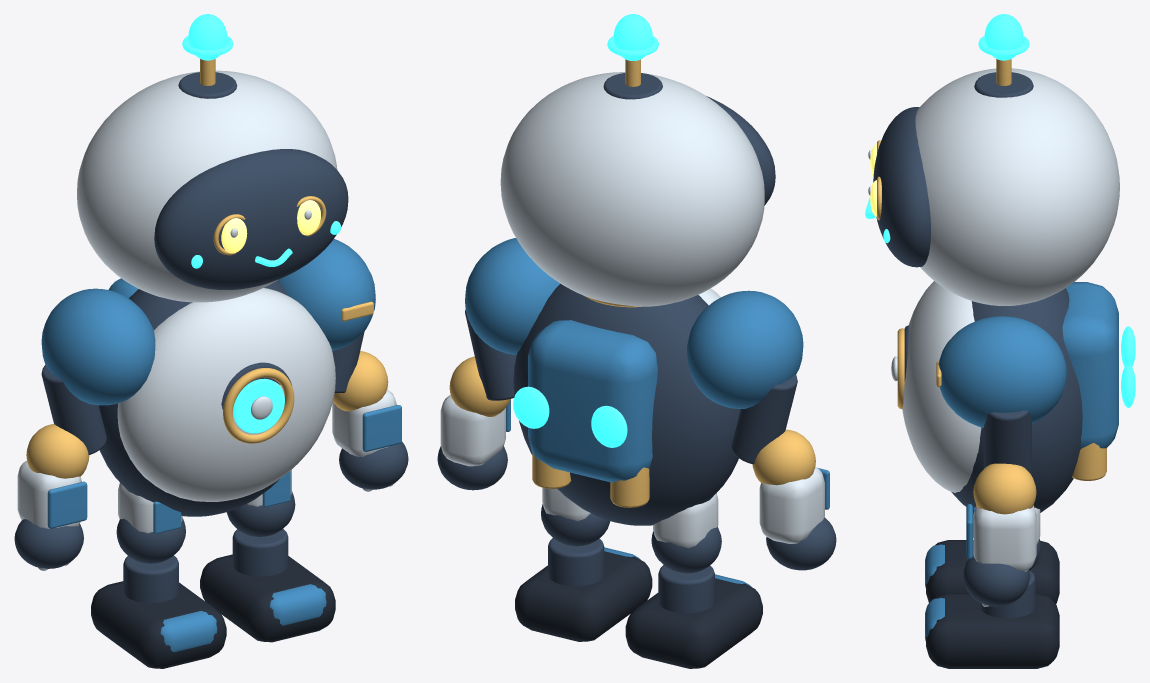
File: cosmo_3d.glb
3 views of the same model, side by side, from view 1: azimuth 30°, elevation 25°; view 2: azimuth 150°, elevation 25°; view 3: azimuth 270°, elevation 25° (orthographic).
Visible parts, largest first — view 1: COSMO | pearl-white chest cuirass, COSMO | pearl ceramic head, COSMO | dark blue glass faceplate, COSMO L | shoulder pauldron, COSMO L | magnetic boot, COSMO R | magnetic boot, COSMO R | shoulder pauldron, COSMO | central titanium chassis, COSMO L | upper arm actuator, COSMO L | elbow pivot, COSMO L | magnetic glove, COSMO R | magnetic glove (+21 smaller); view 2: COSMO | pearl ceramic head, COSMO | central titanium chassis, COSMO | cobalt service backpack, COSMO L | shoulder pauldron, COSMO L | magnetic boot, COSMO R | magnetic boot, COSMO R | shoulder pauldron, COSMO L | forearm ceramic gauntlet, COSMO R | forearm ceramic gauntlet, COSMO L | upper arm actuator, COSMO L | elbow pivot, COSMO R | ankle bearing (+16 smaller); view 3: COSMO | pearl ceramic head, COSMO R | shoulder pauldron, COSMO | pearl-white chest cuirass, COSMO R | magnetic boot, COSMO | central titanium chassis, COSMO | cobalt service backpack, COSMO | dark blue glass faceplate, COSMO R | forearm ceramic gauntlet, COSMO L | magnetic boot, COSMO R | elbow pivot, COSMO R | upper arm actuator, COSMO R | magnetic glove (+11 smaller).
Boxes of the visible parts, x1=… form: COSMO | pearl-white chest cuirass: x1=117, y1=288, x2=335, y2=501; COSMO | pearl ceramic head: x1=77, y1=70, x2=337, y2=302; COSMO | dark blue glass faceplate: x1=154, y1=149, x2=348, y2=289; COSMO L | shoulder pauldron: x1=41, y1=288, x2=155, y2=405; COSMO L | magnetic boot: x1=91, y1=581, x2=226, y2=668; COSMO R | magnetic boot: x1=200, y1=554, x2=335, y2=642; COSMO R | shoulder pauldron: x1=278, y1=239, x2=375, y2=350; COSMO | central titanium chassis: x1=99, y1=280, x2=287, y2=516; COSMO L | upper arm actuator: x1=41, y1=365, x2=106, y2=454; COSMO L | elbow pivot: x1=26, y1=424, x2=89, y2=478; COSMO L | magnetic glove: x1=14, y1=519, x2=83, y2=568; COSMO R | magnetic glove: x1=339, y1=442, x2=408, y2=489; COSMO | pearl ceramic head: x1=500, y1=72, x2=764, y2=306; COSMO | central titanium chassis: x1=513, y1=284, x2=740, y2=525; COSMO | cobalt service backpack: x1=528, y1=320, x2=657, y2=482; COSMO L | shoulder pauldron: x1=687, y1=290, x2=803, y2=408; COSMO L | magnetic boot: x1=625, y1=578, x2=762, y2=668; COSMO R | magnetic boot: x1=515, y1=551, x2=652, y2=641; COSMO R | shoulder pauldron: x1=465, y1=238, x2=560, y2=354; COSMO L | forearm ceramic gauntlet: x1=759, y1=467, x2=824, y2=543; COSMO R | forearm ceramic gauntlet: x1=440, y1=395, x2=505, y2=466; COSMO L | upper arm actuator: x1=731, y1=374, x2=797, y2=464; COSMO L | elbow pivot: x1=752, y1=429, x2=815, y2=485; COSMO R | ankle bearing: x1=548, y1=538, x2=604, y2=586; COSMO | pearl ceramic head: x1=915, y1=68, x2=1119, y2=305; COSMO R | shoulder pauldron: x1=938, y1=316, x2=1066, y2=427; COSMO | pearl-white chest cuirass: x1=902, y1=281, x2=981, y2=492; COSMO R | magnetic boot: x1=926, y1=593, x2=1059, y2=668; COSMO | central titanium chassis: x1=951, y1=288, x2=1082, y2=512; COSMO | cobalt service backpack: x1=1062, y1=282, x2=1118, y2=449; COSMO | dark blue glass faceplate: x1=873, y1=107, x2=930, y2=267; COSMO R | forearm ceramic gauntlet: x1=973, y1=505, x2=1036, y2=571; COSMO L | magnetic boot: x1=926, y1=540, x2=1059, y2=603; COSMO R | elbow pivot: x1=973, y1=463, x2=1036, y2=514; COSMO R | upper arm actuator: x1=983, y1=410, x2=1031, y2=474; COSMO R | magnetic glove: x1=963, y1=554, x2=1029, y2=606.
Size of the model in its own units: 2.4 by 3.64 by 1.46.
